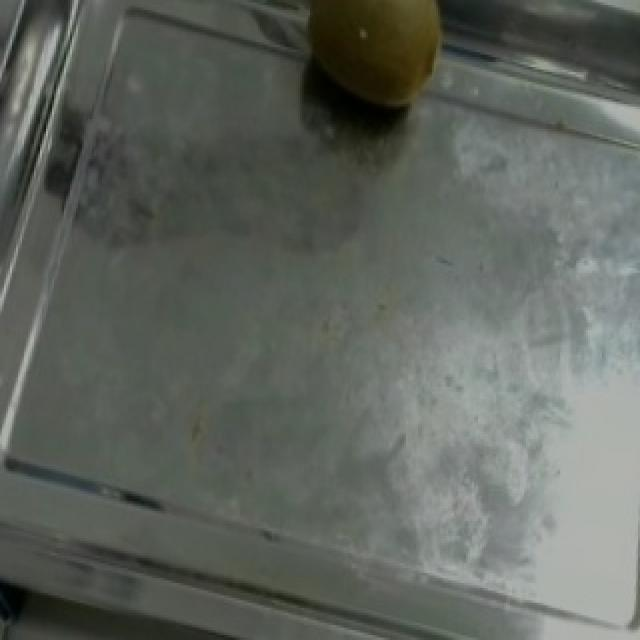Fruit: (272, 0, 472, 144)
